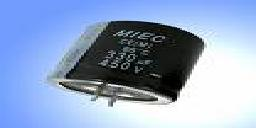Electrolytic-Capacitor: (59, 20, 206, 109)
